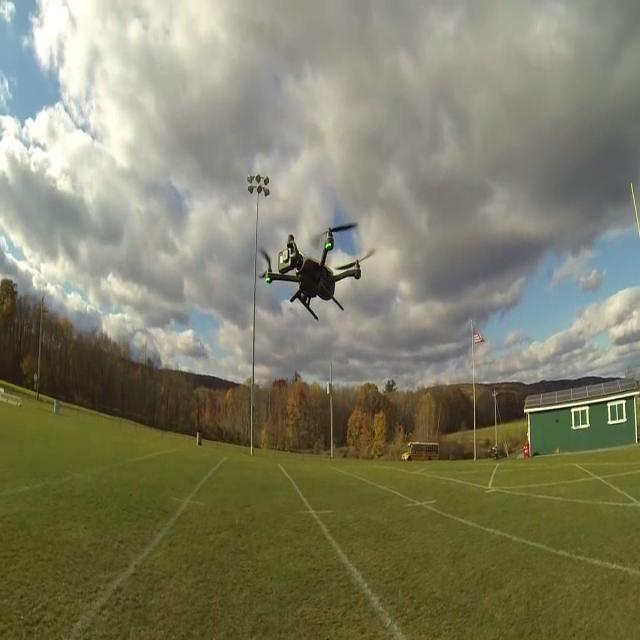drone: (265, 219, 363, 320)
